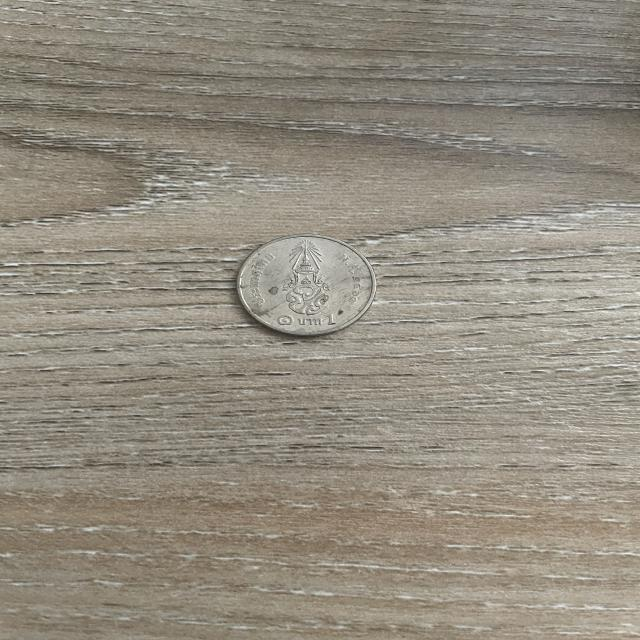1 Bath: (226, 225, 390, 346)
